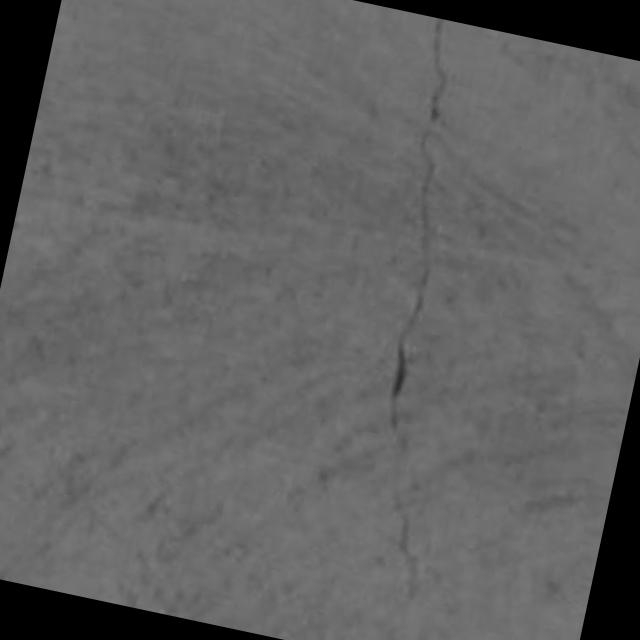crack: (389, 18, 448, 453)
